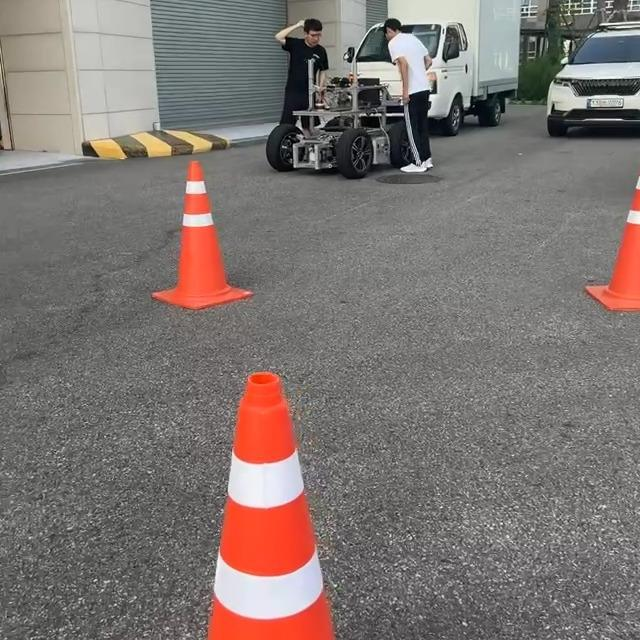fallen_object: (145, 359, 440, 640), (135, 132, 302, 401), (537, 160, 640, 364)
